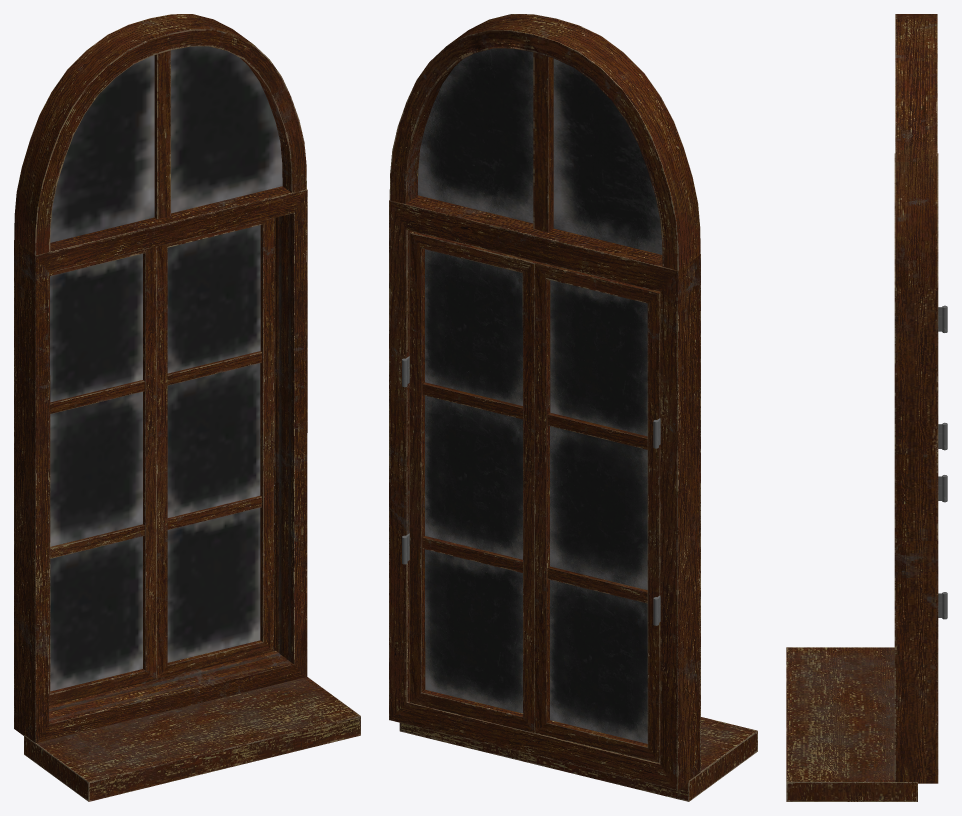
The model's file is sm21_036_east2fwindow.fbx.
3 views of the same model, side by side, from view 1: azimuth 30°, elevation 25°; view 2: azimuth 150°, elevation 25°; view 3: azimuth 270°, elevation 25° (orthographic). The views are drawn at different scales.
Visible parts, largest first — view 1: LOD_1_Group_0_Sub_3__st2_police1fLeftWindow01, LOD_1_Group_0_Sub_2__st2_police1fLeftWindow01_Glass; view 2: LOD_1_Group_0_Sub_3__st2_police1fLeftWindow01, LOD_1_Group_0_Sub_1__st2_police1fLeftWindow01_Glass2; view 3: LOD_1_Group_0_Sub_3__st2_police1fLeftWindow01.
Part boxes in pixels (x1,y1,x2,y2): LOD_1_Group_0_Sub_3__st2_police1fLeftWindow01: (14, 14, 360, 801); LOD_1_Group_0_Sub_2__st2_police1fLeftWindow01_Glass: (50, 46, 282, 691); LOD_1_Group_0_Sub_3__st2_police1fLeftWindow01: (389, 14, 757, 801); LOD_1_Group_0_Sub_1__st2_police1fLeftWindow01_Glass2: (418, 48, 662, 743); LOD_1_Group_0_Sub_3__st2_police1fLeftWindow01: (786, 14, 947, 801).
Bounding box in the file's own units: 0.9049 × 2.21 × 0.4578.
